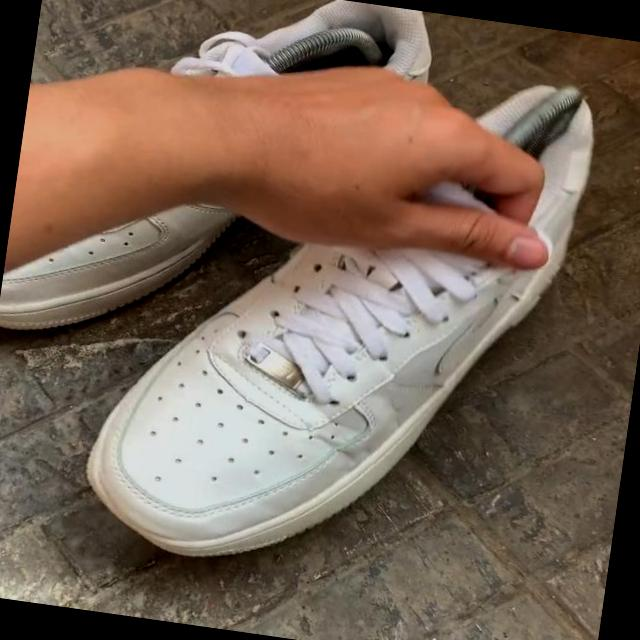nike_fake_airforce: (54, 24, 611, 612)
